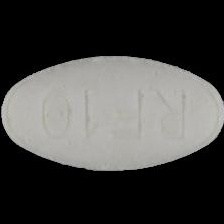63304-845: (0, 0, 224, 224)
